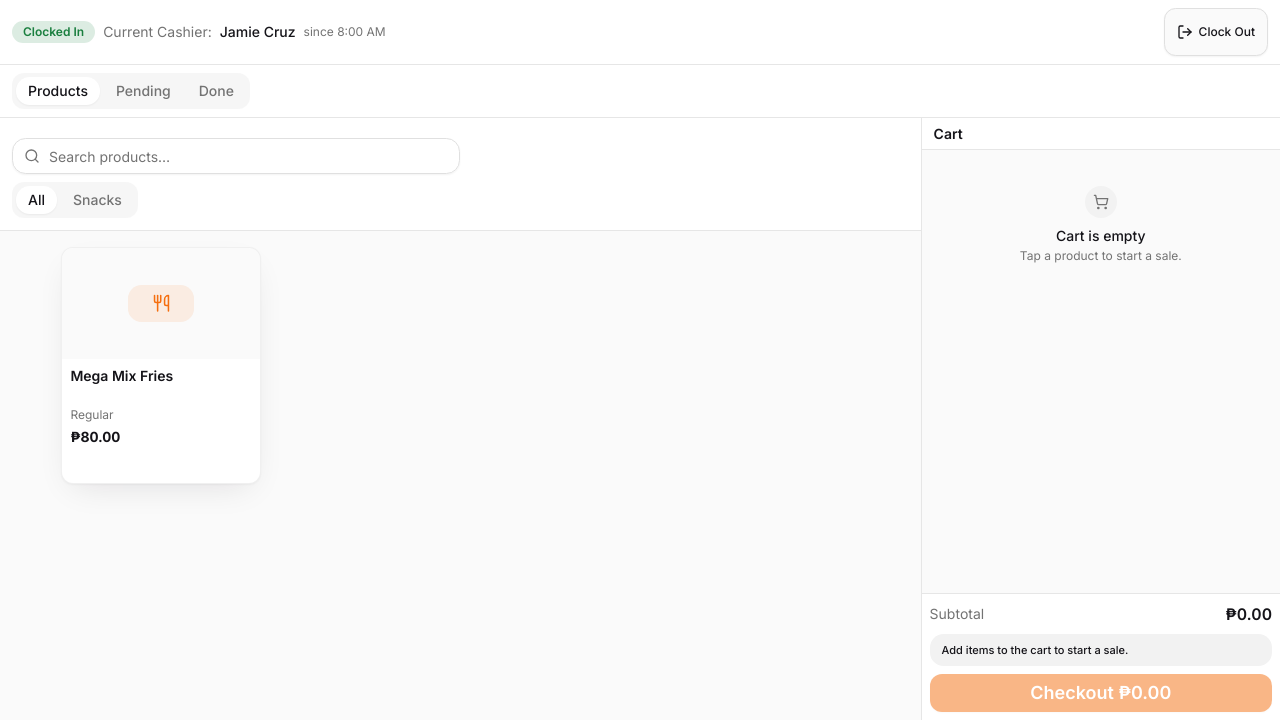
TerminalPage — Add-ons dialog splits into cart lines before adding (Task 107) › keeps Add disabled until the required Flavor/Size group has a selection
Click the text "Mega Mix Fries": (122, 376) left=70, top=367, right=173, bottom=384
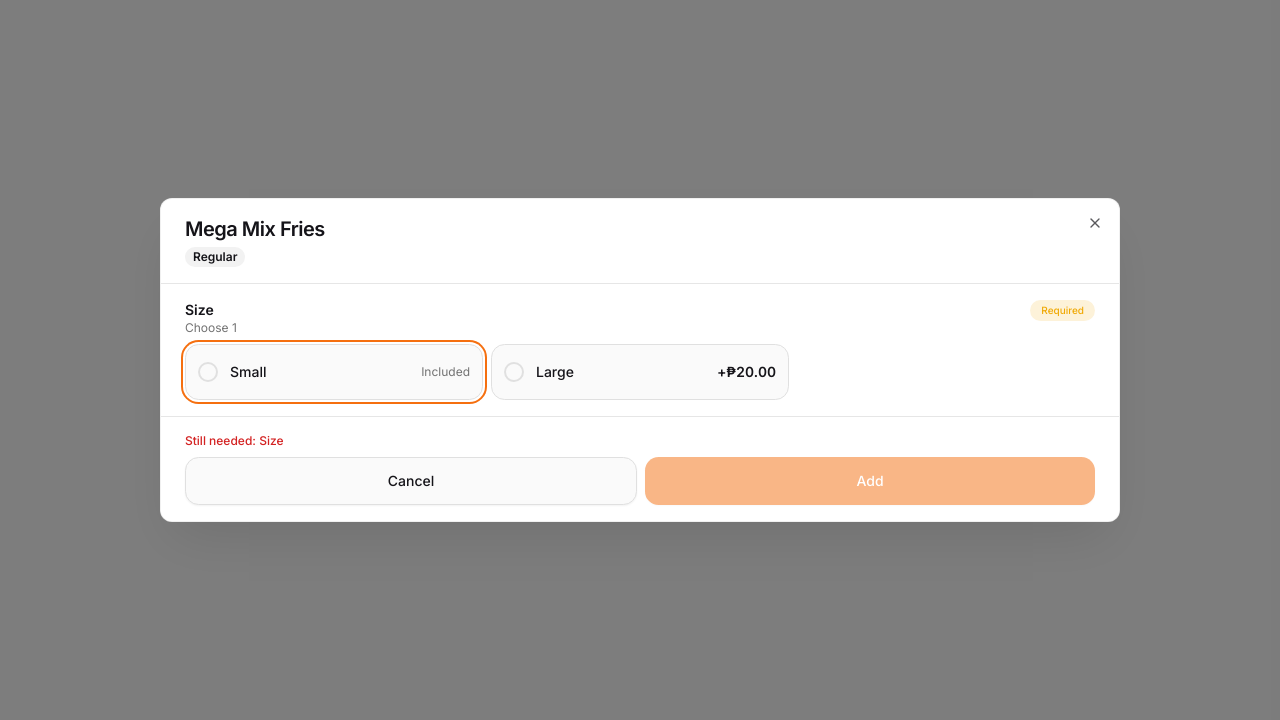
Expected: the button "Add" is disabled, left=645, top=457, right=1095, bottom=505
Click the text "Small": (248, 372) left=230, top=363, right=266, bottom=380
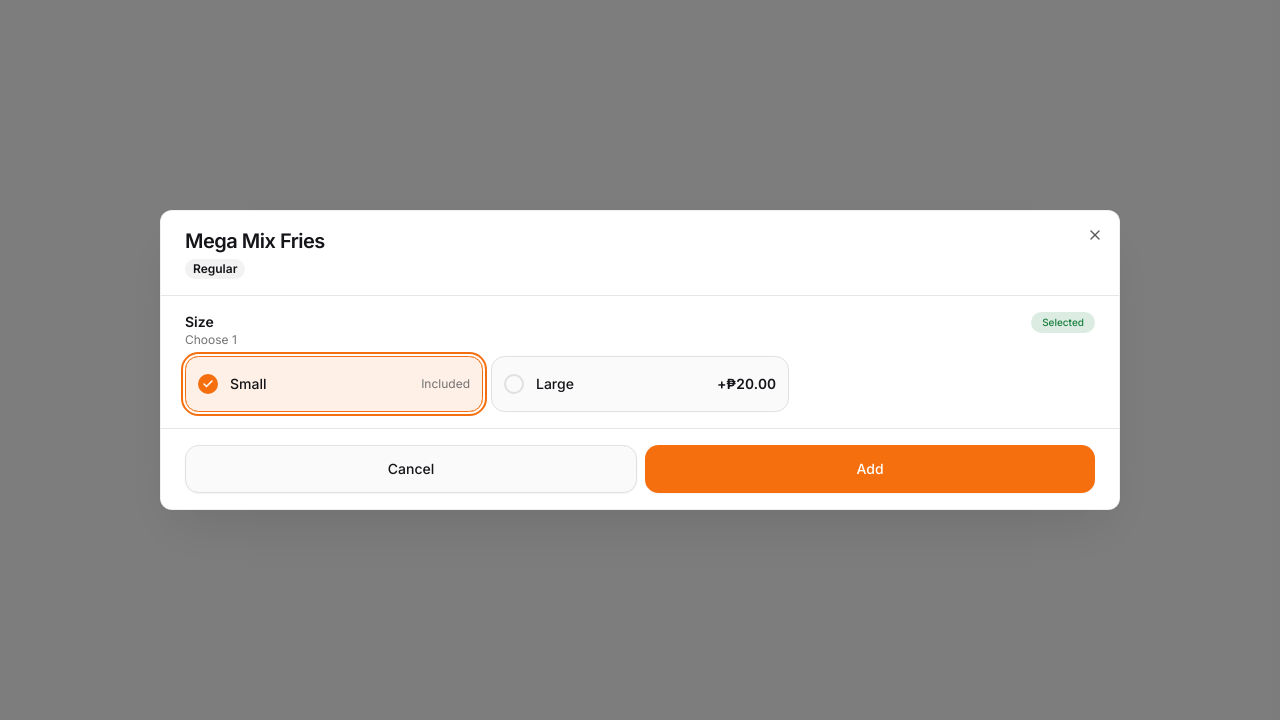
Expected: the button "Add" is enabled, left=645, top=445, right=1095, bottom=493
